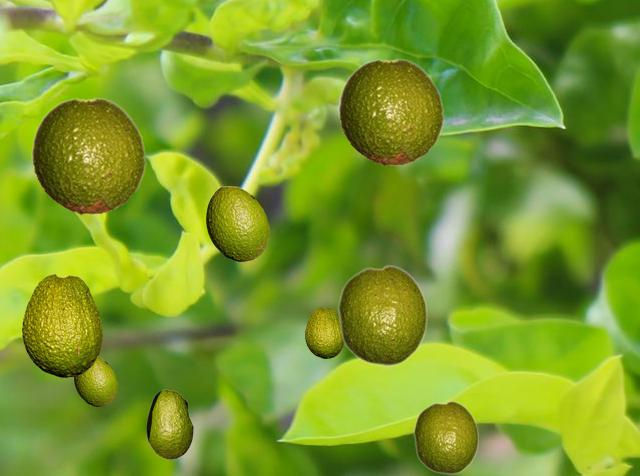avocado: (31, 97, 146, 214), (338, 58, 444, 165), (337, 264, 427, 366), (22, 274, 101, 376), (413, 400, 478, 474), (206, 186, 268, 260), (146, 389, 192, 458), (74, 356, 116, 405), (305, 307, 343, 357)
